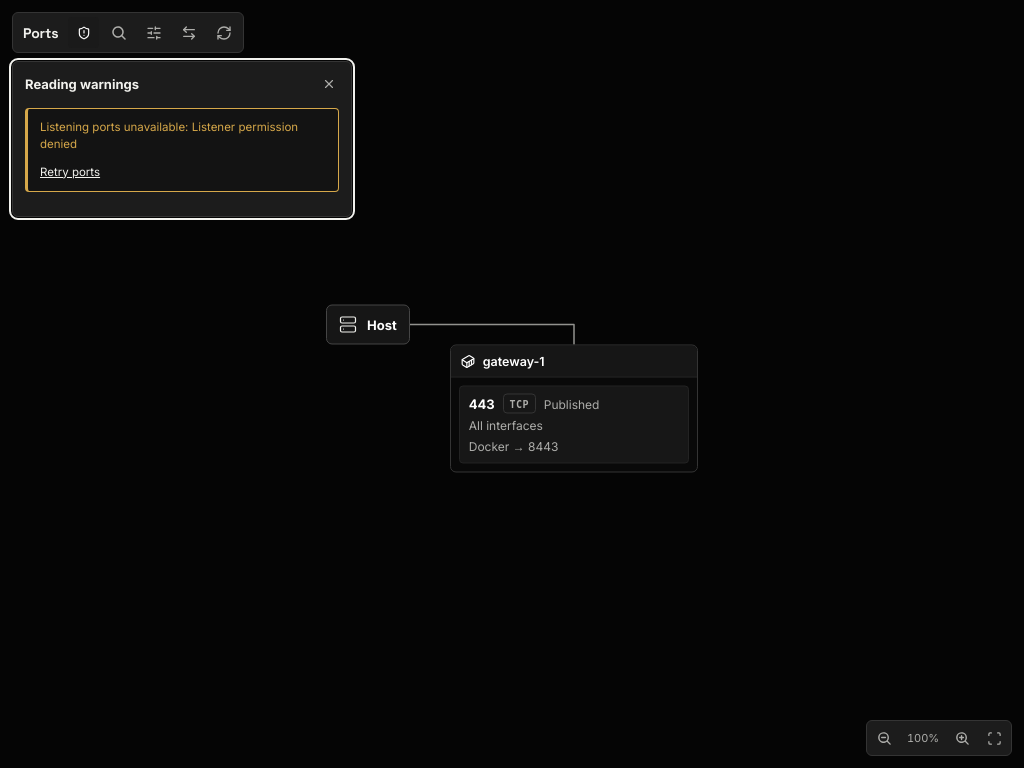
PortsPane › keeps Docker and connection data available when the listener read fails
This screenshot has width=1024, height=768.
Expected: the element named "Ports graph" is shown, [302,280,722,496]
Expected: the button "443 TCP Published All interfaces Docker → 8443" is shown, [459,386,689,464]
Click the button named "Show established connections" at x=189, y=32, box [173,17,204,48]
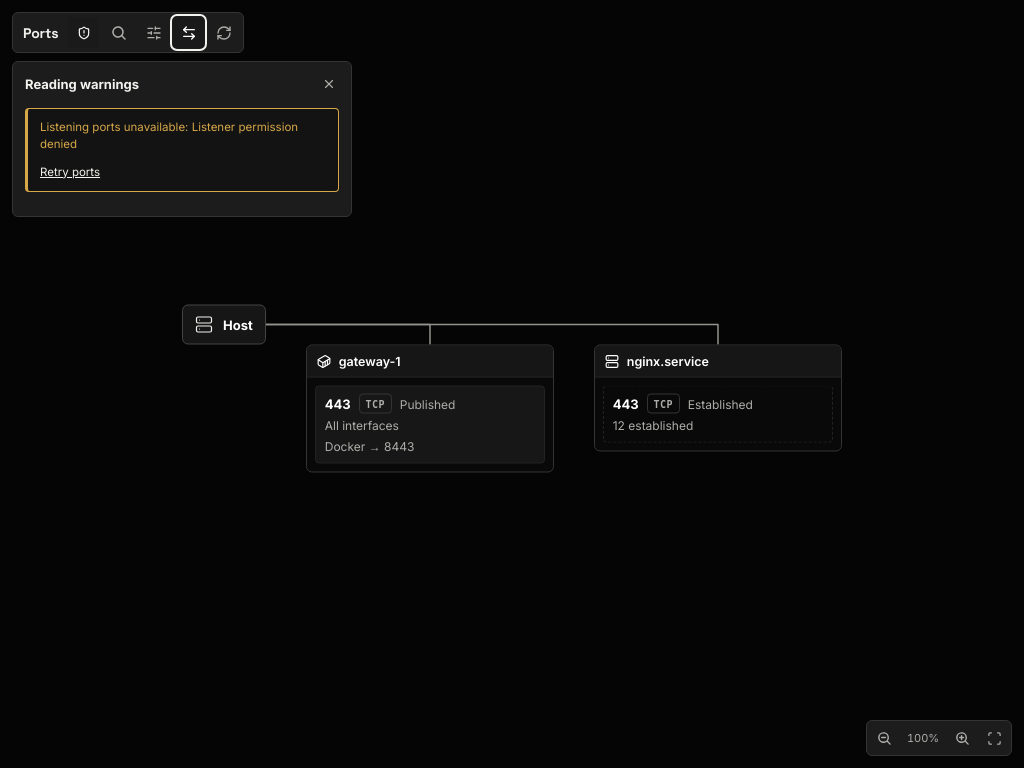
Expected: the text "Listening ports unavailable: Listener permission denied" is shown, [25,108,339,192]
Expected: the button "443 TCP Established 12 established" is shown, [603,386,833,442]
